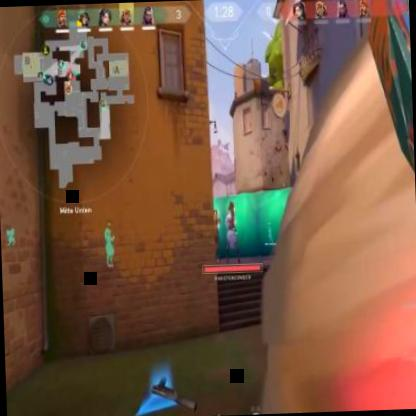enemy: (223, 202, 242, 268), (209, 209, 222, 262)
enemy_head: (228, 202, 233, 212), (213, 209, 218, 216)
